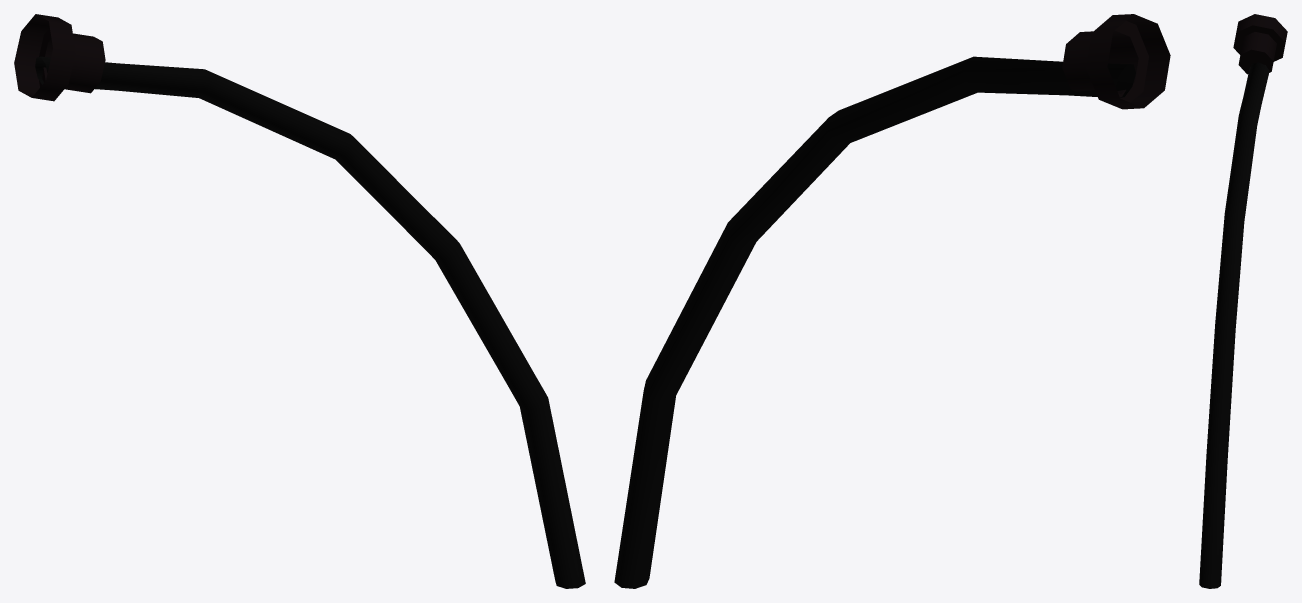
The picture shows the model from 3 angles, left to right: view 1: azimuth 30°, elevation 25°; view 2: azimuth 150°, elevation 25°; view 3: azimuth 270°, elevation 25°; orthographic projection. The views are drawn at different scales.
Visible parts, largest first — view 1: Joint_0_Object_0, Joint_0_Object_1; view 2: Joint_0_Object_0, Joint_0_Object_1; view 3: Joint_0_Object_0, Joint_0_Object_1.
Part boxes in pixels (x1,y1,x2,y2): Joint_0_Object_0: (35,56,585,588); Joint_0_Object_1: (14,14,105,101); Joint_0_Object_0: (614,56,1135,588); Joint_0_Object_1: (1062,14,1170,109); Joint_0_Object_0: (1199,62,1269,588); Joint_0_Object_1: (1233,14,1287,74).
Bounding box in the file's own units: 190 × 227 × 43.53.
